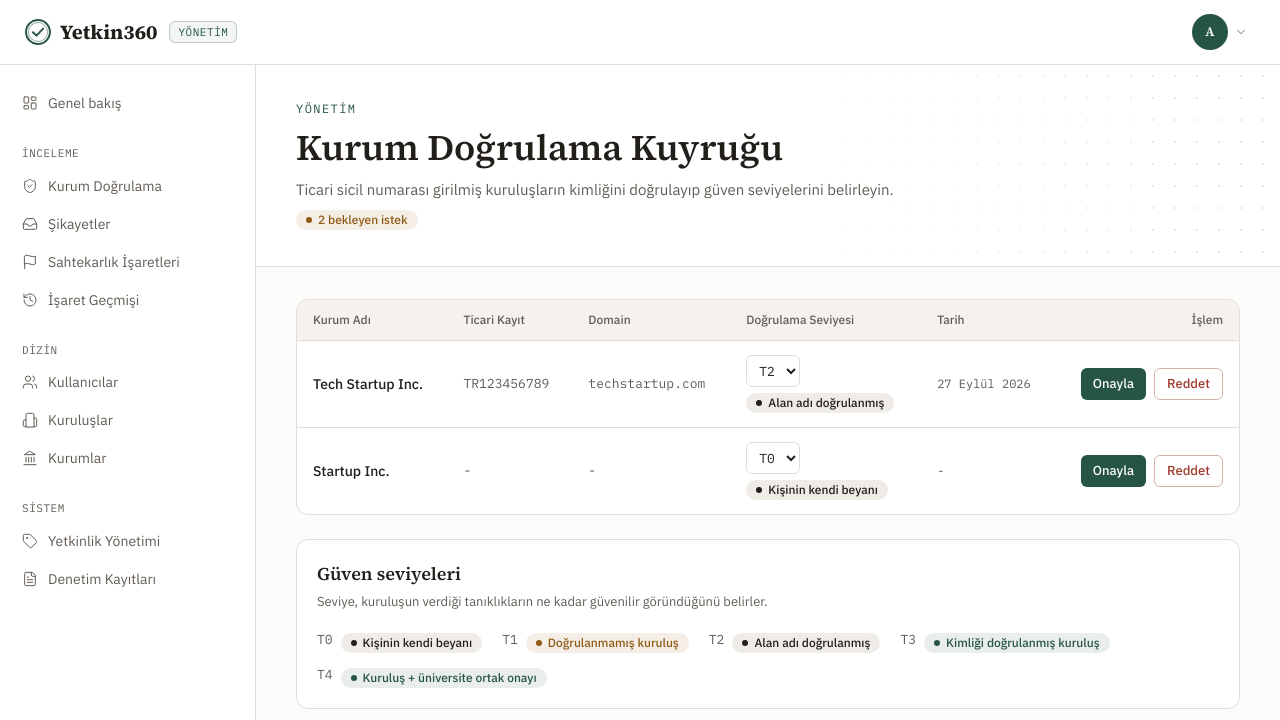
Test: DogrulamaKuyruguPage (/admin/dogrulama-kuyrugu) › YET-198: Reddet — kurum kuyruktan çıkar, rejectVerification çağrılır, seviye güncelleme çağrılmaz
Expected: the text "Tech Startup Inc." is shown, [313,374,423,394]
Click the button with aria-label "Reddet Tech Startup Inc.".
click(1189, 384)  # box [1154,368,1223,400]
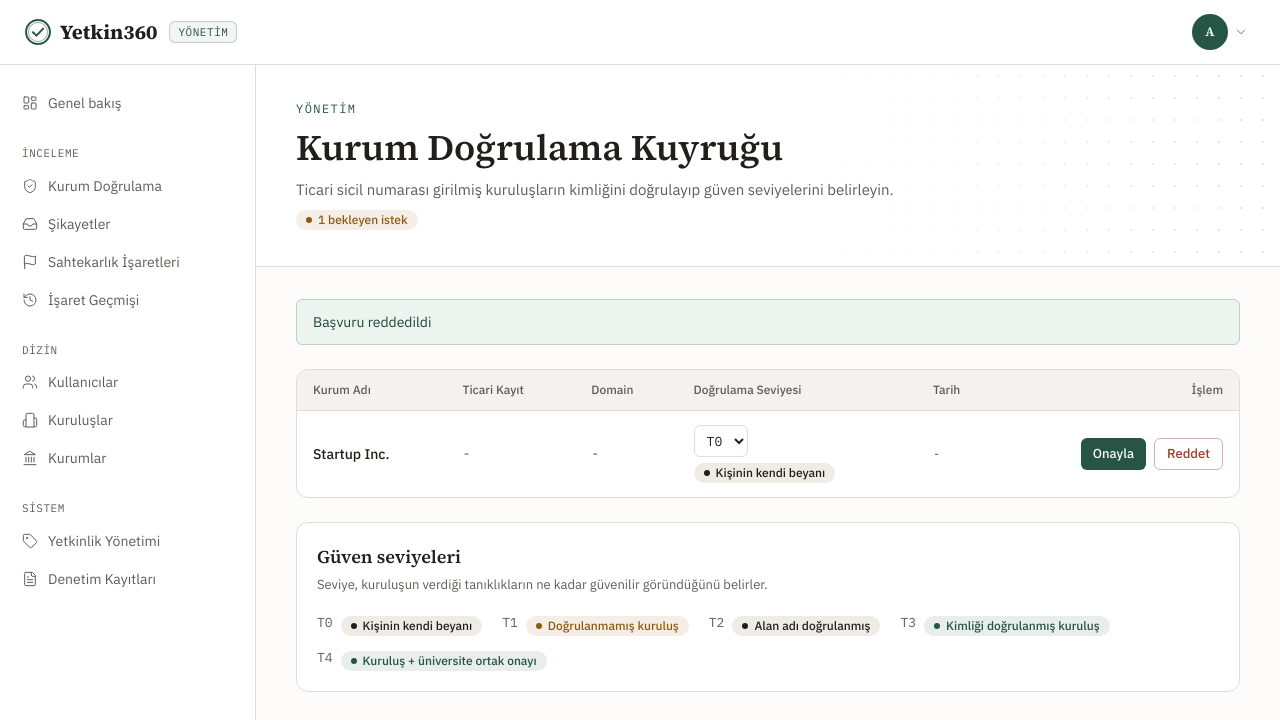
Expected: the text "Startup Inc." is shown, [313,444,390,464]
Result: the text "Tech Startup Inc." is gone
Result: the text "Başvuru reddedildi" is shown at [296,299,1240,345]
